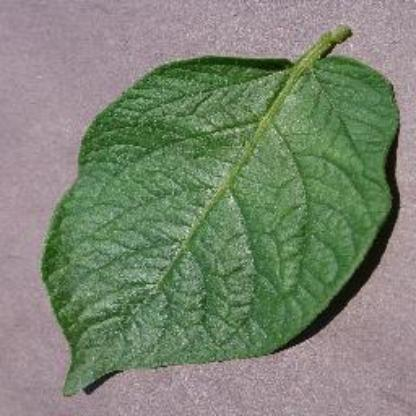Healthy-plant: (42, 23, 400, 397)
